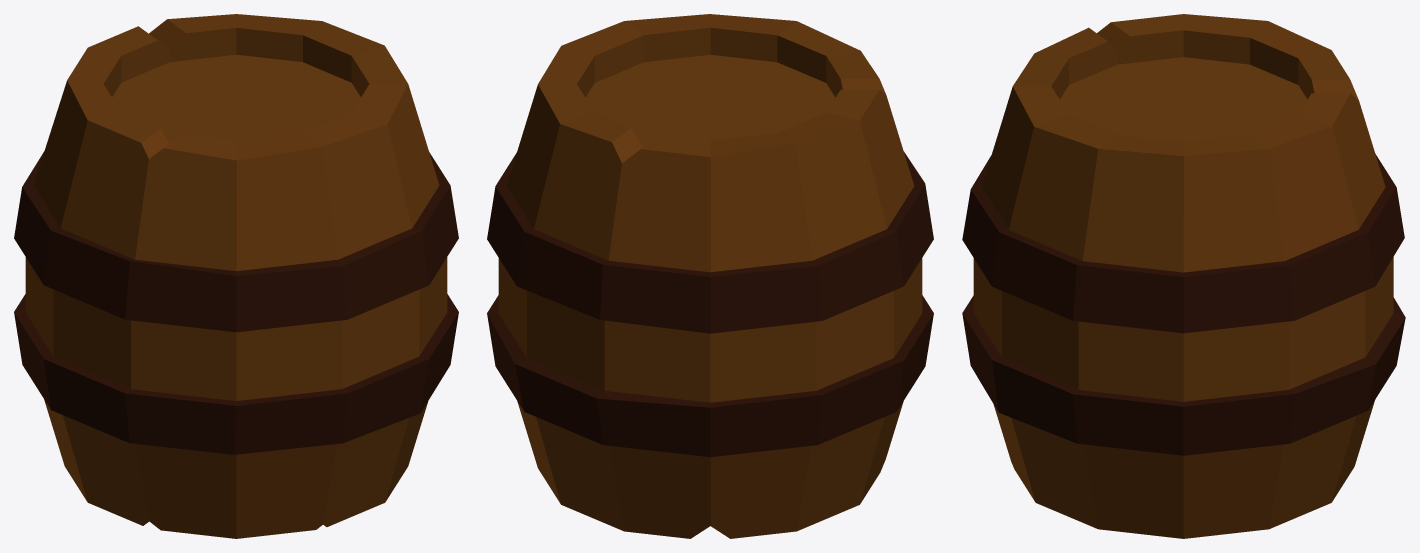
Rendered from barrel.glb.
3 renders of one model, left to right at view 1: azimuth 30°, elevation 25°; view 2: azimuth 150°, elevation 25°; view 3: azimuth 270°, elevation 25°, orthographic.
Visible parts, largest first — view 1: Barrel; view 2: Barrel; view 3: Barrel.
Boxes of the visible parts, x1,y1,x2,y2 form: Barrel: [14, 14, 458, 538]; Barrel: [487, 14, 933, 538]; Barrel: [962, 14, 1405, 538].
Size of the model in its own units: 2.11 by 2.02 by 2.11.
